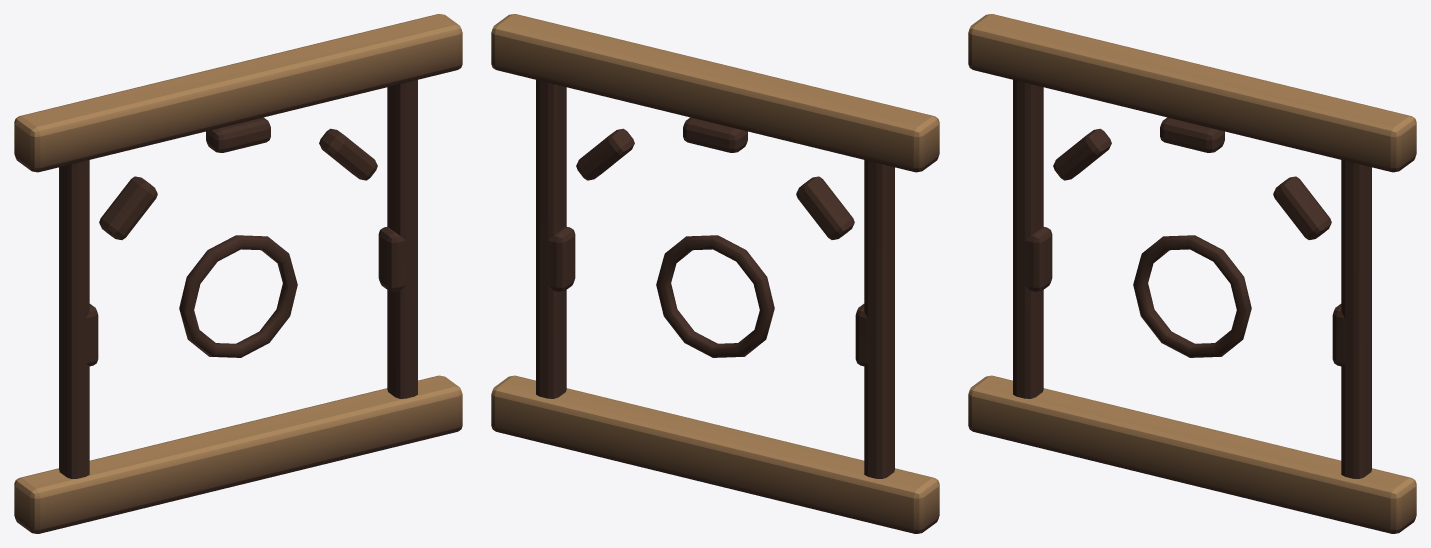
Rendered from fence_ornate.glb.
3 renders of one model, left to right at view 1: azimuth 30°, elevation 25°; view 2: azimuth 150°, elevation 25°; view 3: azimuth 330°, elevation 25°, orthographic.
Parts seen in each view (by area): view 1: FenceRail; view 2: FenceRail; view 3: FenceRail.
Part boxes in pixels (x1=…): FenceRail: x1=14, y1=14, x2=462, y2=533; FenceRail: x1=491, y1=14, x2=939, y2=533; FenceRail: x1=968, y1=14, x2=1416, y2=533.
Size of the model in its own units: 1 by 0.9 by 0.09.
